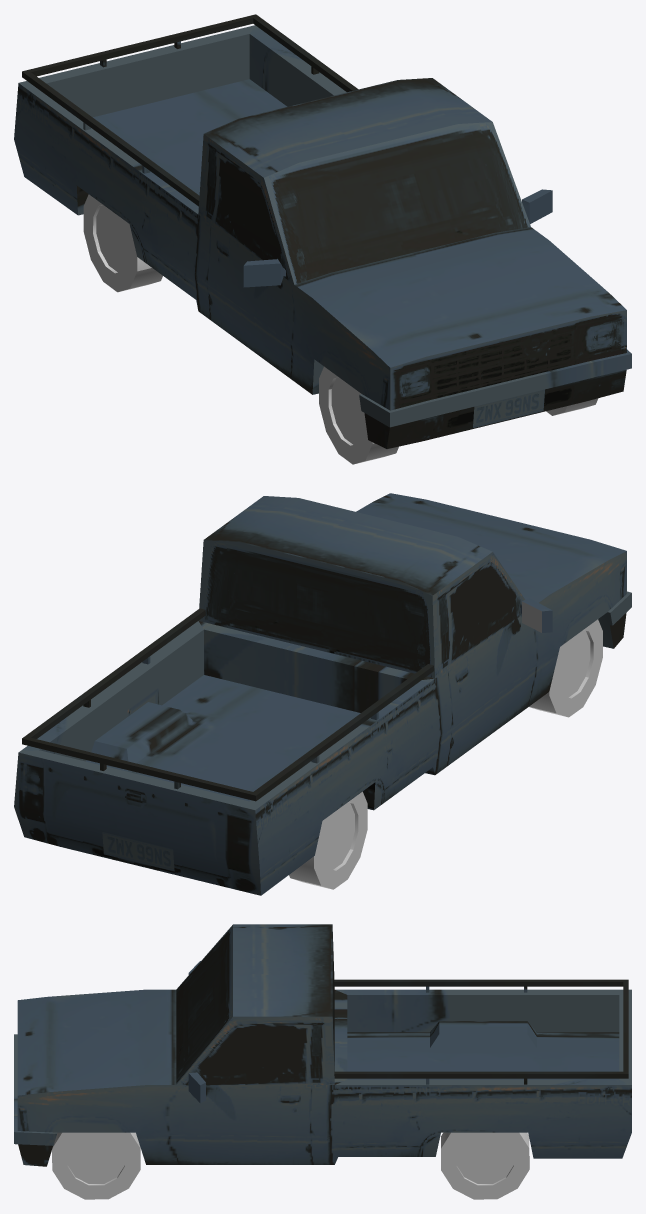
File: Ute.fbx
The picture shows the model from 3 angles, top to bottom: view 1: azimuth 30°, elevation 25°; view 2: azimuth 150°, elevation 25°; view 3: azimuth 270°, elevation 25°; orthographic projection. The views are drawn at different scales.
Visible parts, largest first — view 1: Ute; view 2: Ute; view 3: Ute.
Boxes of the visible parts, x1,y1,x2,y2 form: Ute: [14, 14, 631, 464]; Ute: [14, 493, 631, 895]; Ute: [14, 924, 631, 1199].
Bounding box in the file's own units: 294 × 206 × 615.
